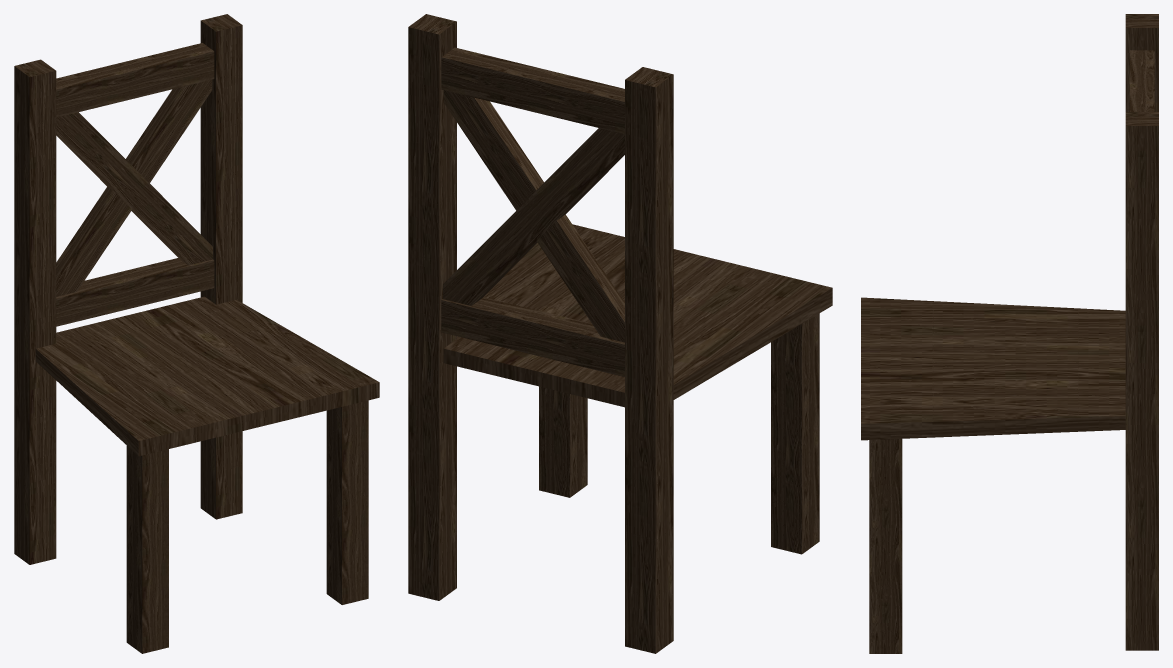
File: Chair.FBX
3 views of the same model, side by side, from view 1: azimuth 30°, elevation 25°; view 2: azimuth 150°, elevation 25°; view 3: azimuth 270°, elevation 25° (orthographic). The views are drawn at different scales.
Parts seen in each view (by area): view 1: Box005, Box006, Box003, Box001, Box002, Box009, Box010, Box007, Box008; view 2: Box006, Box003, Box005, Box001, Box009, Box010, Box007, Box008, Box002; view 3: Box005, Box003, Box002, Box006, Box007.
Boxes of the visible parts, x1,y1,x2,y2 form: Box005: (35, 296, 379, 456); Box006: (14, 59, 56, 564); Box003: (200, 14, 242, 519); Box001: (126, 445, 168, 653); Box002: (326, 400, 368, 604); Box009: (56, 79, 212, 296); Box010: (56, 112, 212, 265); Box007: (56, 43, 214, 117); Box008: (56, 258, 214, 326); Box006: (625, 67, 673, 653); Box003: (408, 14, 456, 600); Box005: (443, 224, 832, 407); Box001: (771, 313, 819, 554); Box009: (443, 90, 624, 342); Box010: (443, 128, 624, 305); Box007: (441, 47, 624, 134); Box008: (441, 297, 624, 376); Box002: (539, 386, 587, 497); Box005: (861, 297, 1125, 440); Box003: (1125, 112, 1158, 650); Box002: (869, 439, 902, 653); Box006: (1125, 14, 1158, 111); Box007: (1130, 50, 1154, 111).
Size of the model in its own units: 36.18 by 70 by 36.
Materials: 1 (1 with a texture image).
